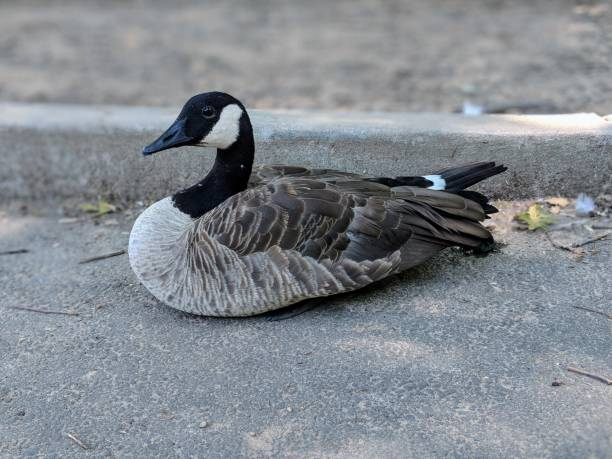goose: (122, 88, 514, 321)
